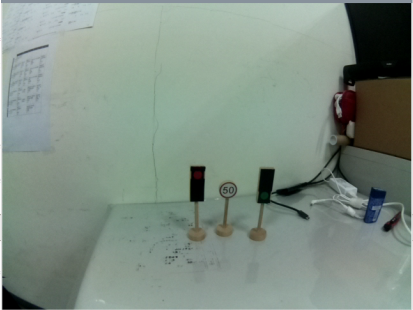Green: (254, 166, 274, 207)
Red: (184, 164, 208, 205)
Speed50: (218, 180, 240, 200)
